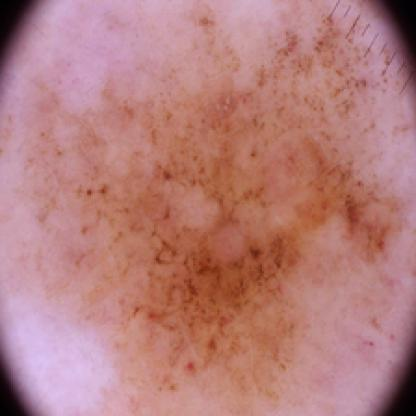Skin_Cancer-Malignant: (90, 101, 412, 351)
